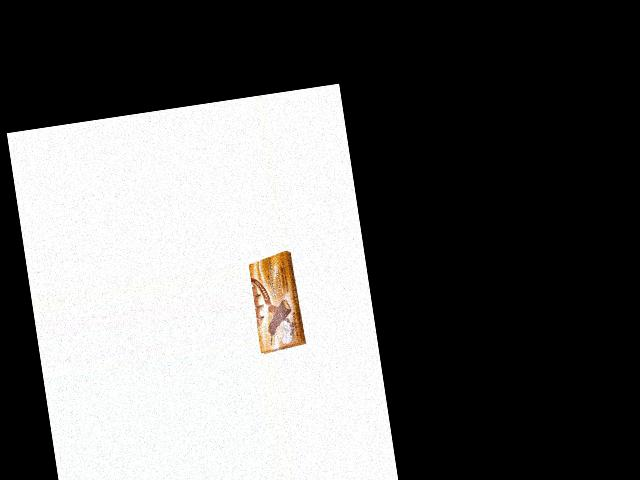chocolate: (245, 247, 306, 354)
